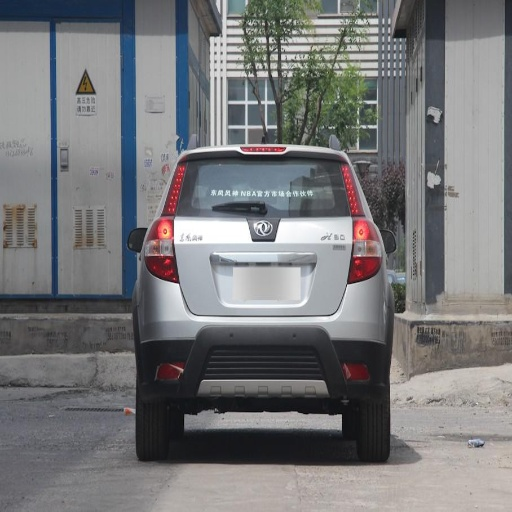back_bumper: (132, 270, 403, 401)
